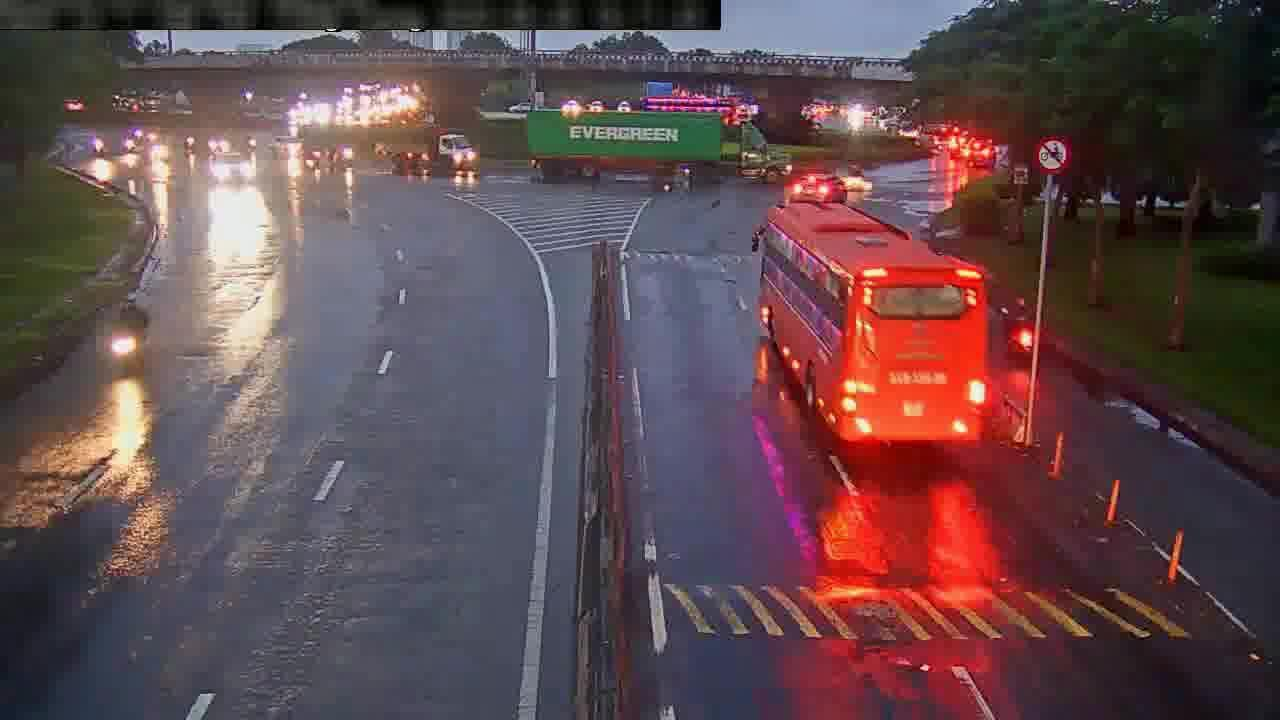car: (779, 168, 849, 201)
container: (521, 107, 794, 182), (368, 120, 473, 174)
motorbike: (111, 291, 155, 373), (1002, 296, 1033, 358)
passenger_car: (749, 201, 988, 462)
